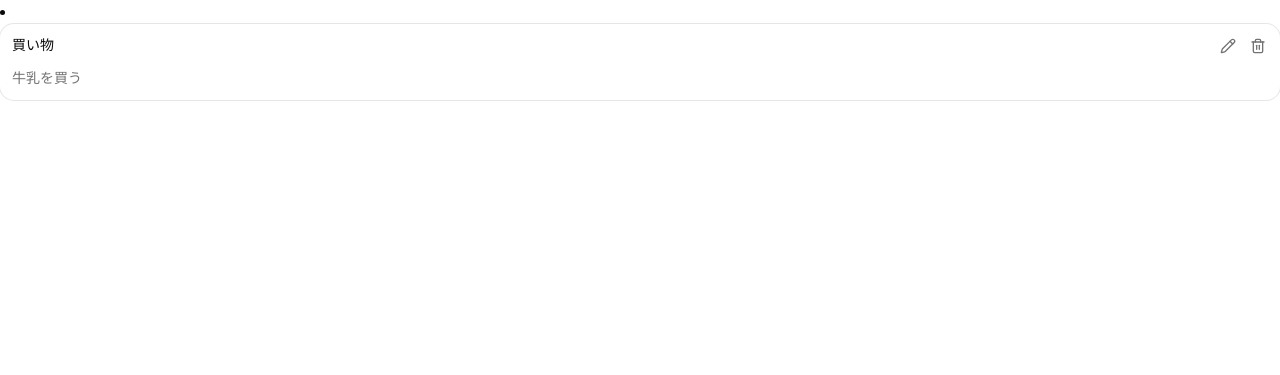
Scenario: TaskCard 編集 › タイトルを空にして保存すると、送信せずにエラーを表示し編集を続ける
Click the button named "「買い物」を編集".
click(1228, 46)  # box [1214,32,1242,60]
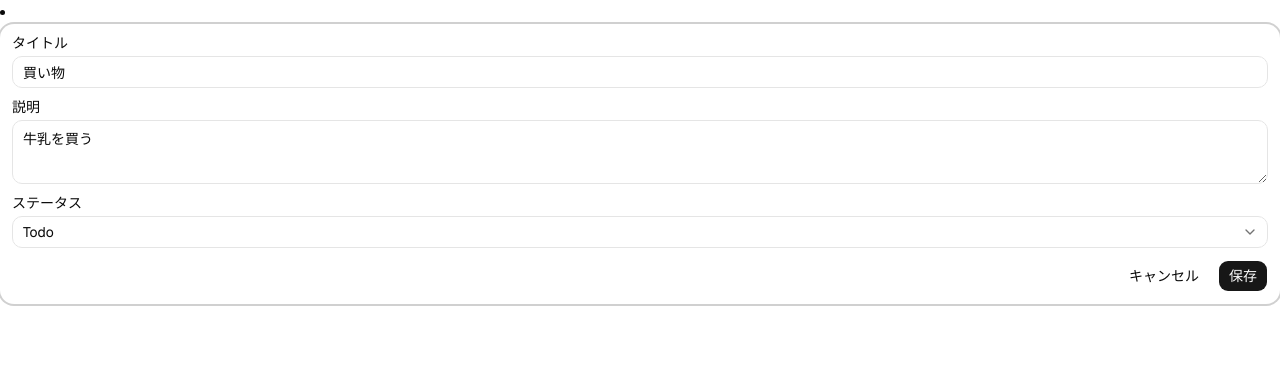
Clear the field labelled "タイトル" at x=640, y=72, box [12,56,1268,88]
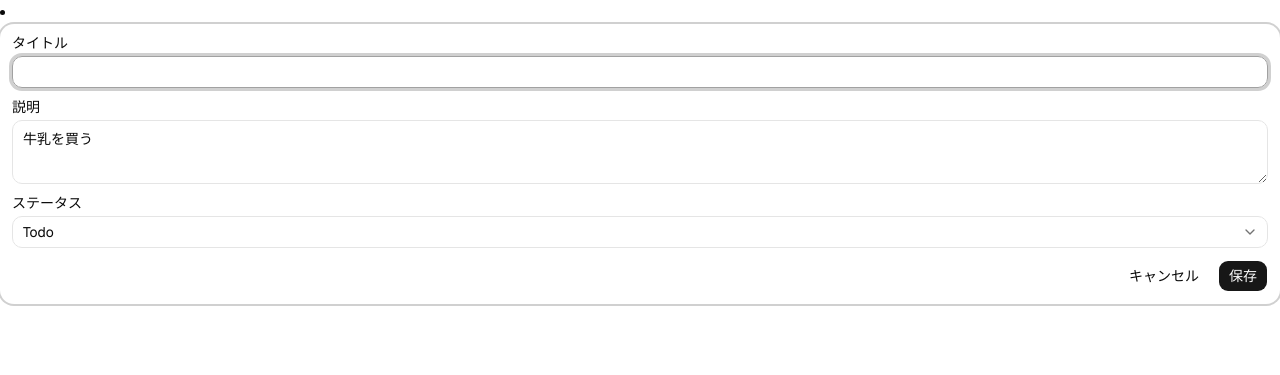
Click the button "保存".
click(1243, 276)  # box [1218,260,1268,292]
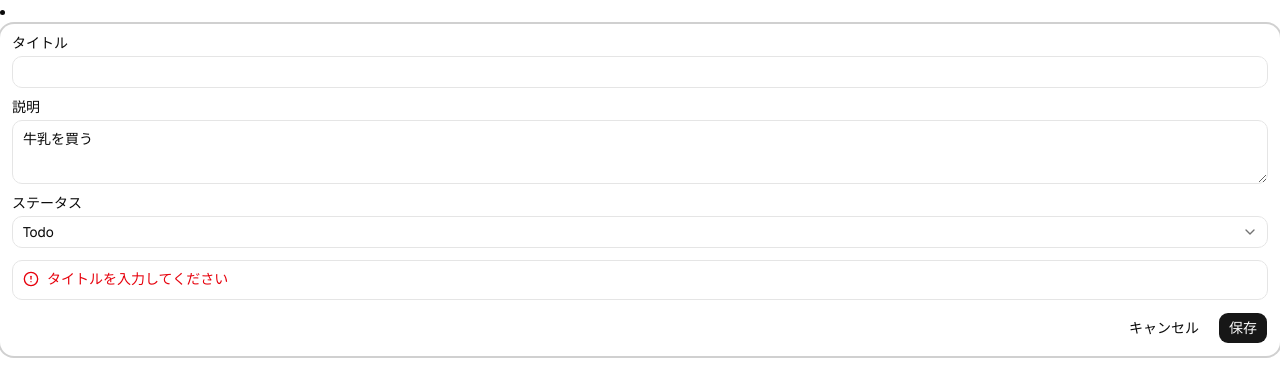
expect the message reads "タイトルを入力してください": met, box [47,270,228,288]
